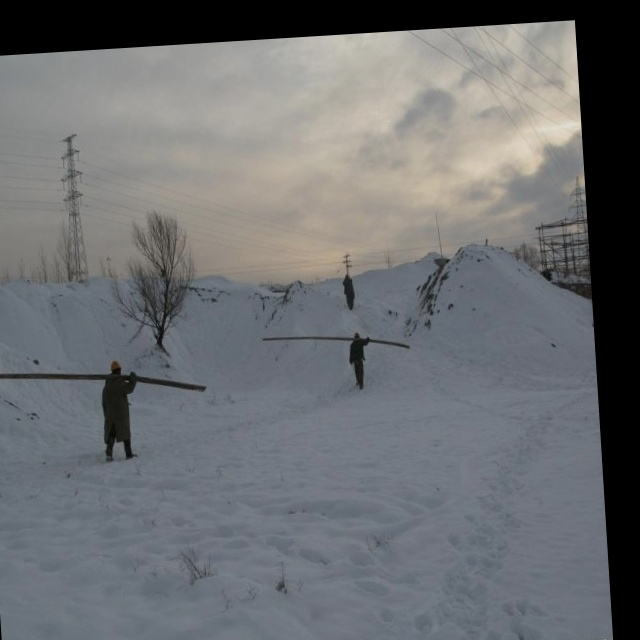Con_Casco: (111, 360, 123, 376)
